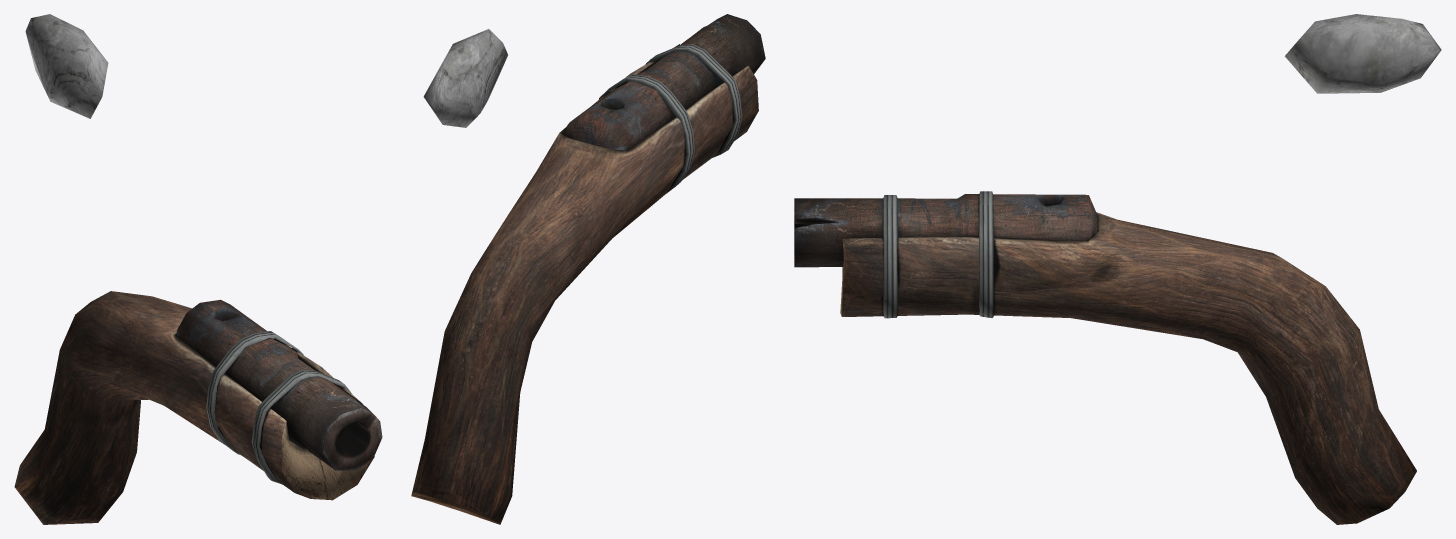
File: йока.fbx
The picture shows the model from 3 angles, left to right: view 1: azimuth 30°, elevation 25°; view 2: azimuth 150°, elevation 25°; view 3: azimuth 270°, elevation 25°; orthographic projection. The views are drawn at different scales.
Parts seen in each view (by area): view 1: eoka, eoka stone; view 2: eoka, eoka stone; view 3: eoka, eoka stone.
Boxes of the visible parts, <box> form: eoka: <box>14,291,382,524</box>; eoka stone: <box>25,14,108,118</box>; eoka: <box>411,14,765,524</box>; eoka stone: <box>423,29,507,127</box>; eoka: <box>794,191,1416,524</box>; eoka stone: <box>1285,14,1441,93</box>.
Size of the model in its own units: 506 by 2308 by 2711.
Materials: 1 (1 with a texture image).
